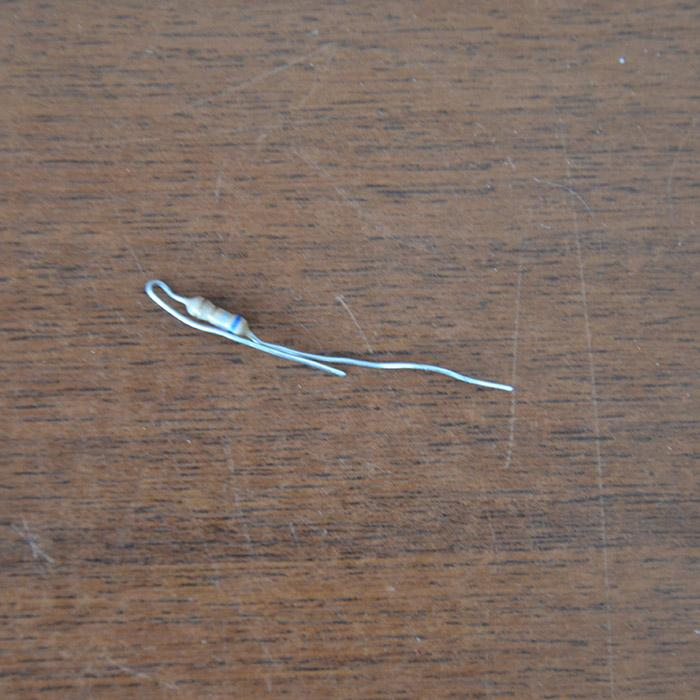resistor: (184, 291, 255, 344)
